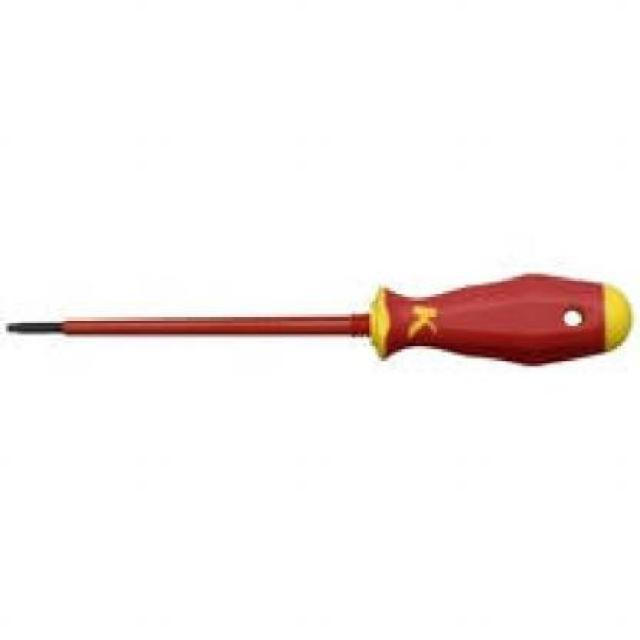screwdriver: (8, 273, 634, 367)
